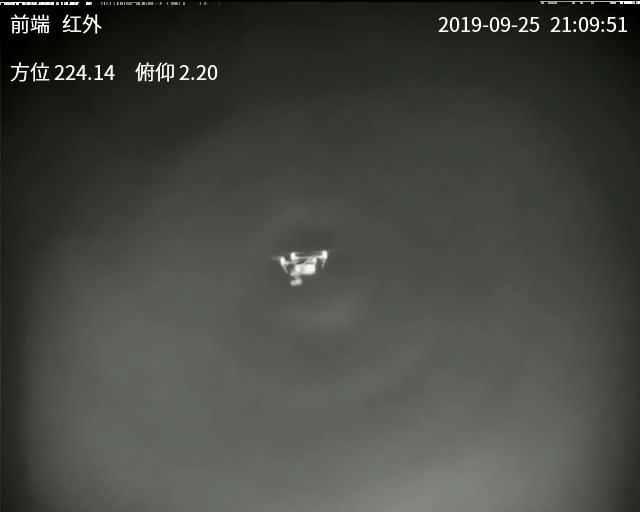uav: (276, 247, 328, 288)
